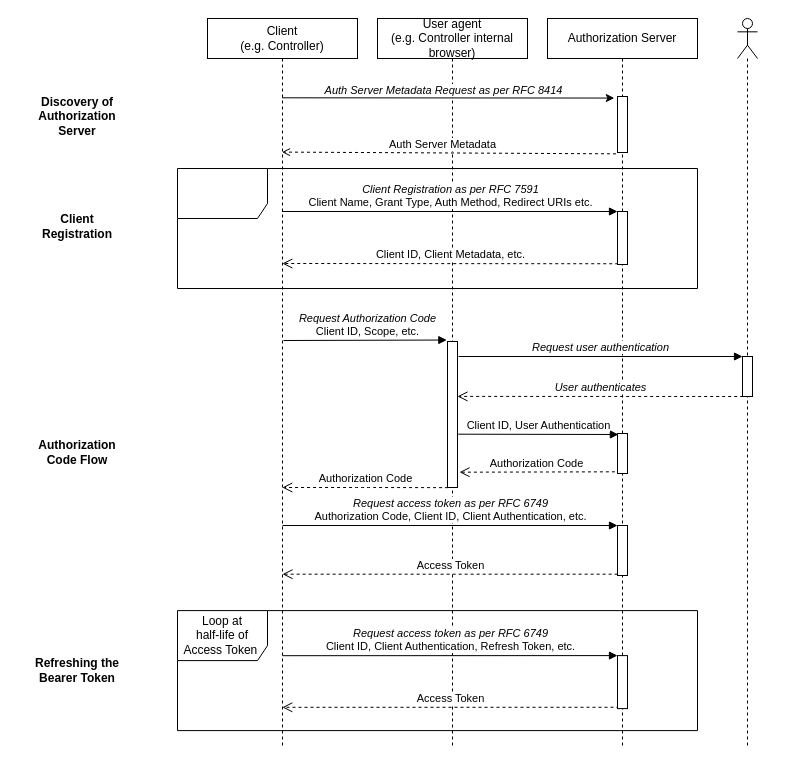
This 790x764 diagram has some shape labels left out. Each missing label, with the centre of its shape:
"One time operation for Client set-up" belongs at point 437,228.
"resource owner (e.g. Controller Operator)" belongs at point 747,382.
